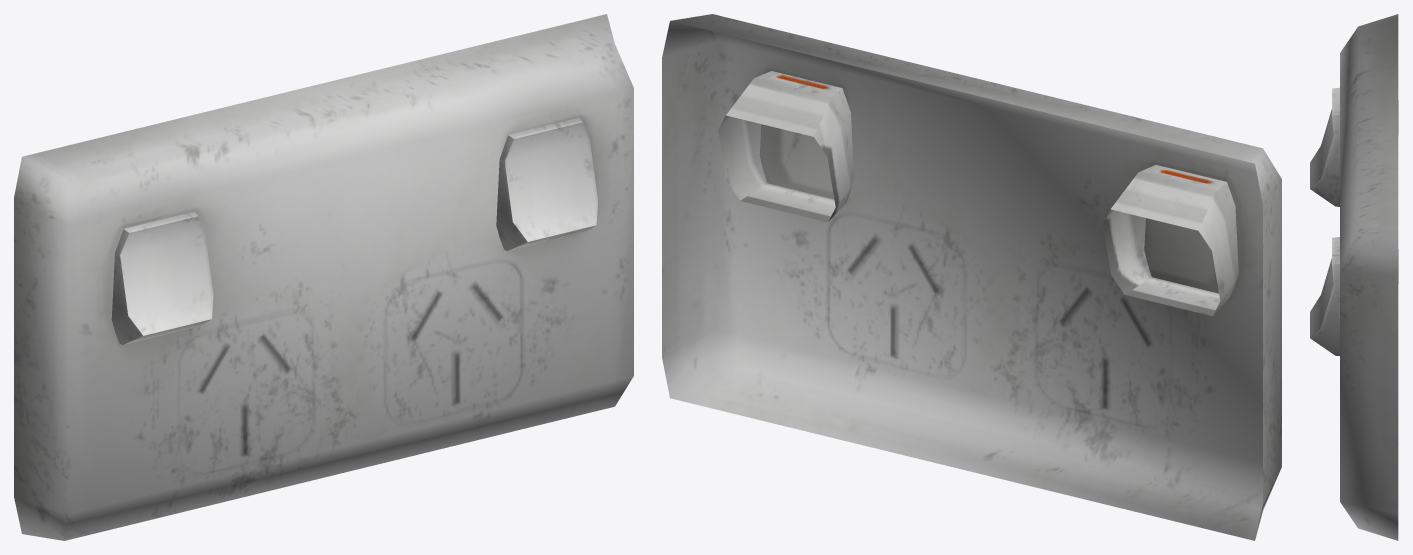
Rendered from Power Point.FBX.
3 renders of one model, left to right at view 1: azimuth 30°, elevation 25°; view 2: azimuth 150°, elevation 25°; view 3: azimuth 270°, elevation 25°, orthographic. The views are drawn at different scales.
Parts seen in each view (by area): view 1: Power Point, Left Switch, Right Switch; view 2: Power Point, Left Switch, Right Switch; view 3: Power Point, Left Switch, Right Switch.
Part boxes in pixels (left/top/right/bottom): Power Point: left=14, top=14, right=633, bottom=540; Left Switch: left=111, top=211, right=213, bottom=344; Right Switch: left=496, top=118, right=597, bottom=250; Power Point: left=662, top=14, right=1281, bottom=540; Left Switch: left=1102, top=165, right=1238, bottom=315; Right Switch: left=718, top=71, right=853, bottom=222; Power Point: left=1340, top=14, right=1398, bottom=540; Left Switch: left=1310, top=87, right=1398, bottom=206; Right Switch: left=1310, top=237, right=1398, bottom=355.
Bounding box in the file's own units: 1.5 × 0.2411 × 0.9.
